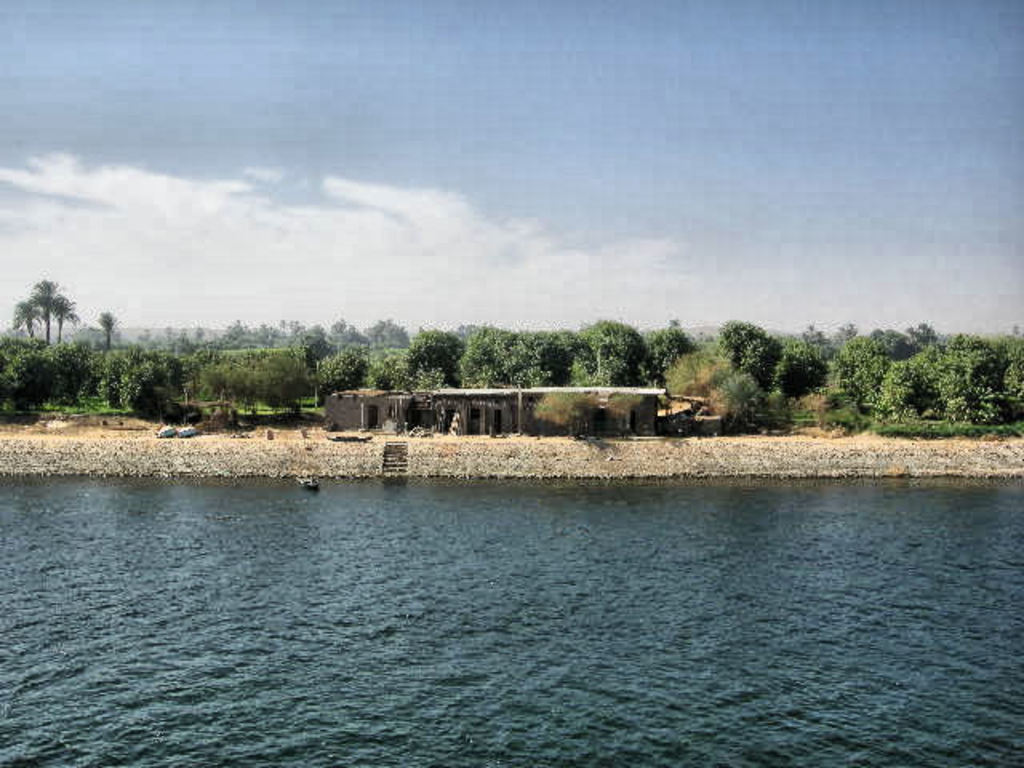Tree: (0, 278, 1022, 427)
